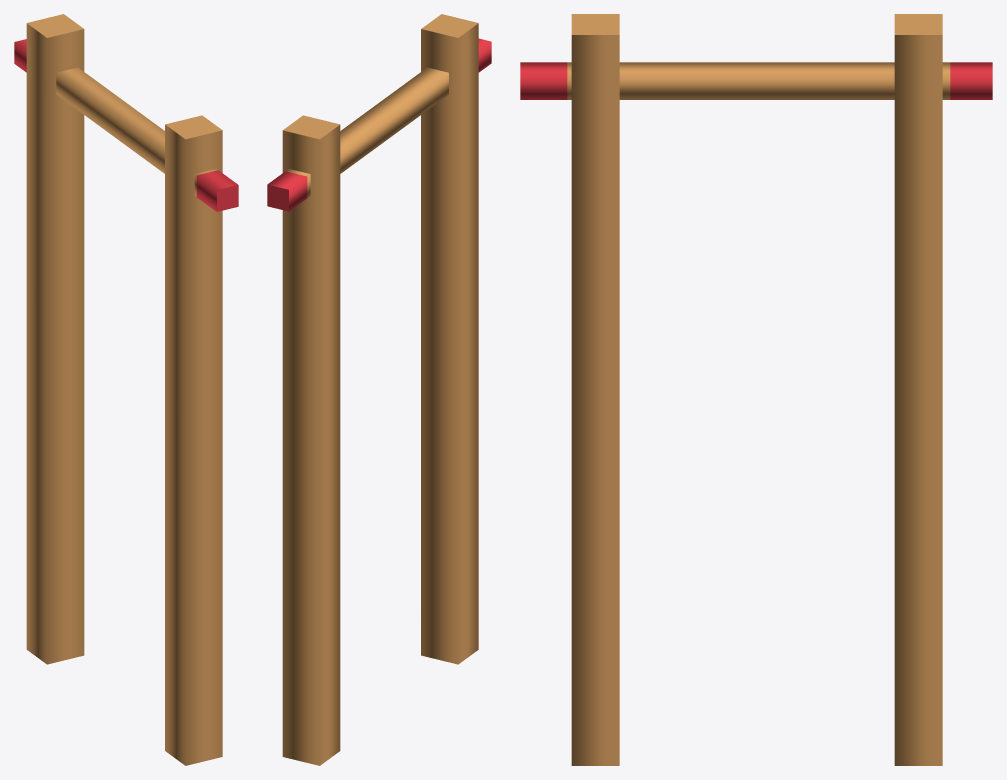
File: SM_Bars1.fbx
3 renders of one model, left to right at view 1: azimuth 30°, elevation 25°; view 2: azimuth 150°, elevation 25°; view 3: azimuth 270°, elevation 25°, orthographic. The views are drawn at different scales.
Visible parts, largest first — view 1: SM_Bars1; view 2: SM_Bars1; view 3: SM_Bars1.
Part boxes in pixels (x1=…): SM_Bars1: x1=14, y1=14, x2=238, y2=765; SM_Bars1: x1=267, y1=14, x2=491, y2=765; SM_Bars1: x1=520, y1=14, x2=992, y2=765.
Size of the model in its own units: 25.57 by 412 by 241.
